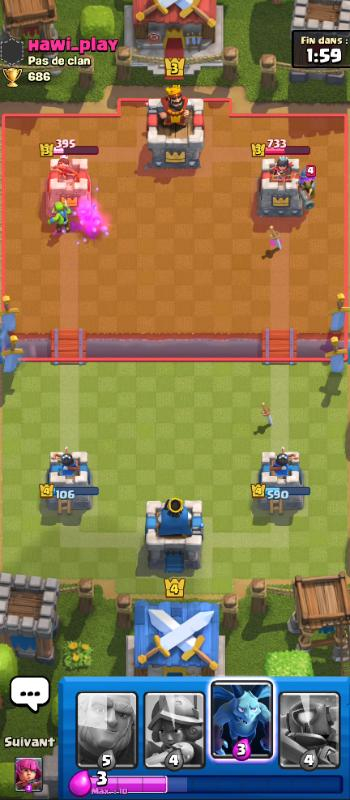gobelin: (45, 199, 77, 236)
mousquetaire: (299, 165, 320, 213)
